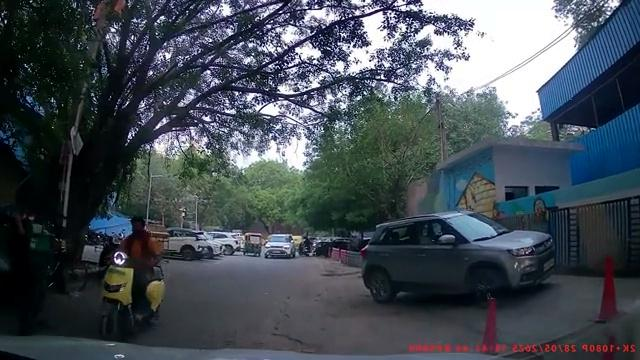motorcycle_without_helmet: (93, 214, 170, 341)
